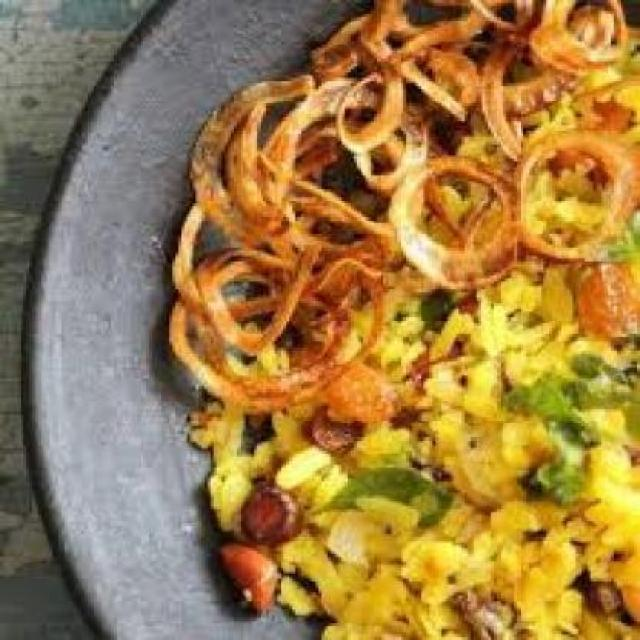poha: (169, 0, 640, 640)
